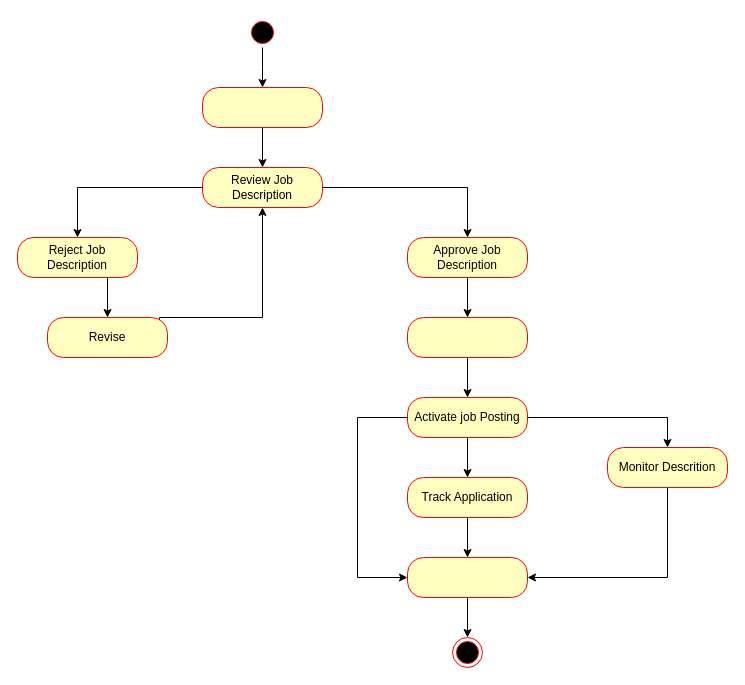
This 745x685 diagram has some shape labels left out. The shapes that lost their labels are listed below. From the top down, each one's centre as x and y in pixels, then its label:
the point at 262,107: Create Job Description Draft
the point at 467,337: Publish Job Description
the point at 467,577: Archive Job Description
